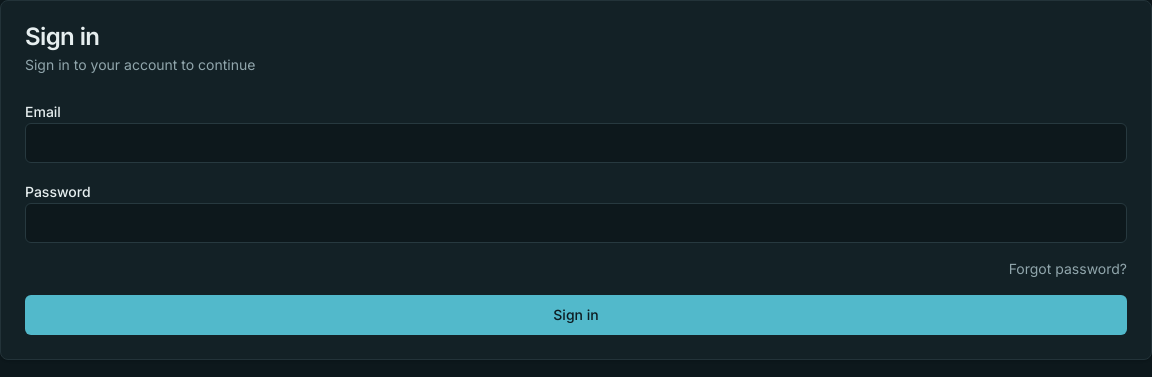
LoginForm › disables submit button during submission
Type "a@b.com" into the field labelled "Email".
click(576, 143); type("a@b.com")  # box [25,123,1127,163]
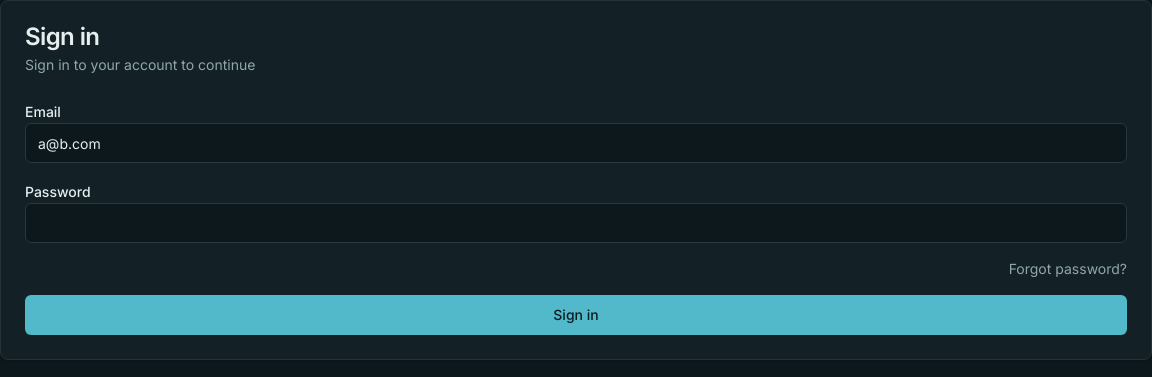
Type "Password1!" into the password field labelled "Password".
click(576, 223); type("Password1!")  # box [25,203,1127,243]
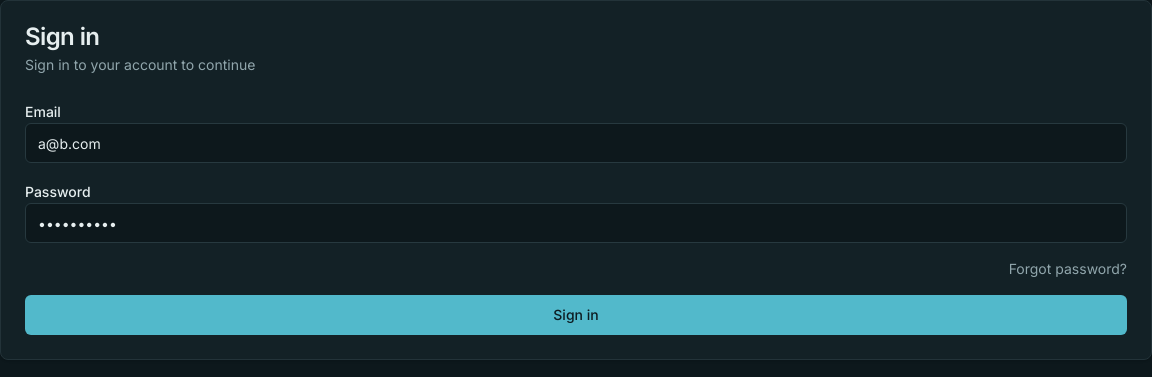
Submit the form, box [25,99,1127,335]
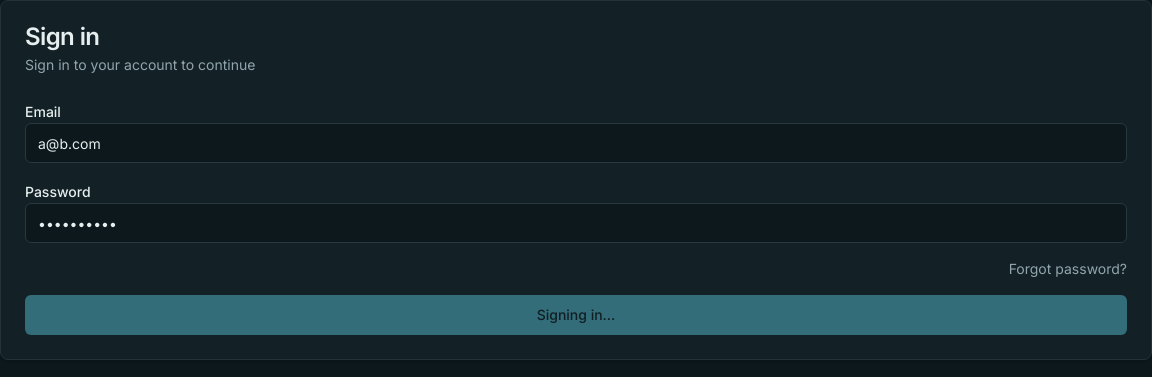
expect the button "Signing in…" is disabled: met, box [25,295,1127,335]
